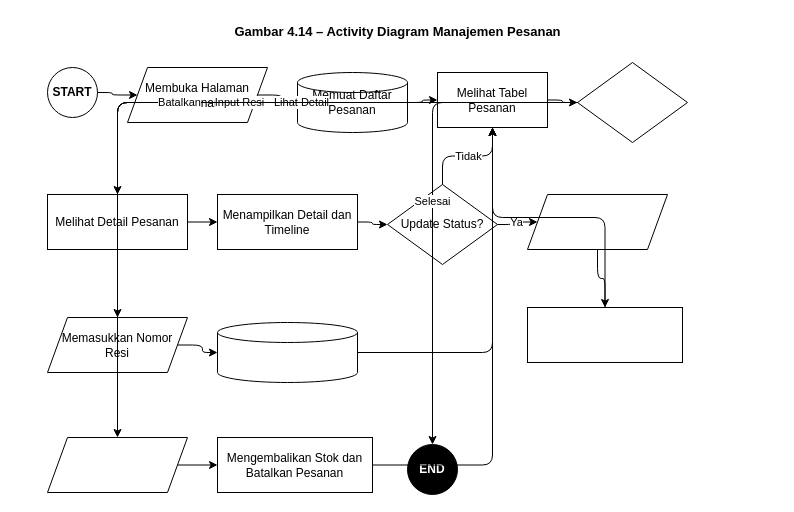
Some shapes in this 794 by 512 pixel diagram are drawn without their labels. The shapes that lost their labels are listed below. From the top down, each one's centre as x and y in pixels, then its label:
At pixel 632 102: "Pilih Aksi?".
At pixel 597 222: "Memilih Status Baru".
At pixel 287 352: "Menyimpan Resi dan Kirim Notif WA".
At pixel 604 334: "Memperbarui Status dan Kirim Notif WA".
At pixel 117 464: "Mengkonfirmasi Pembatalan".
